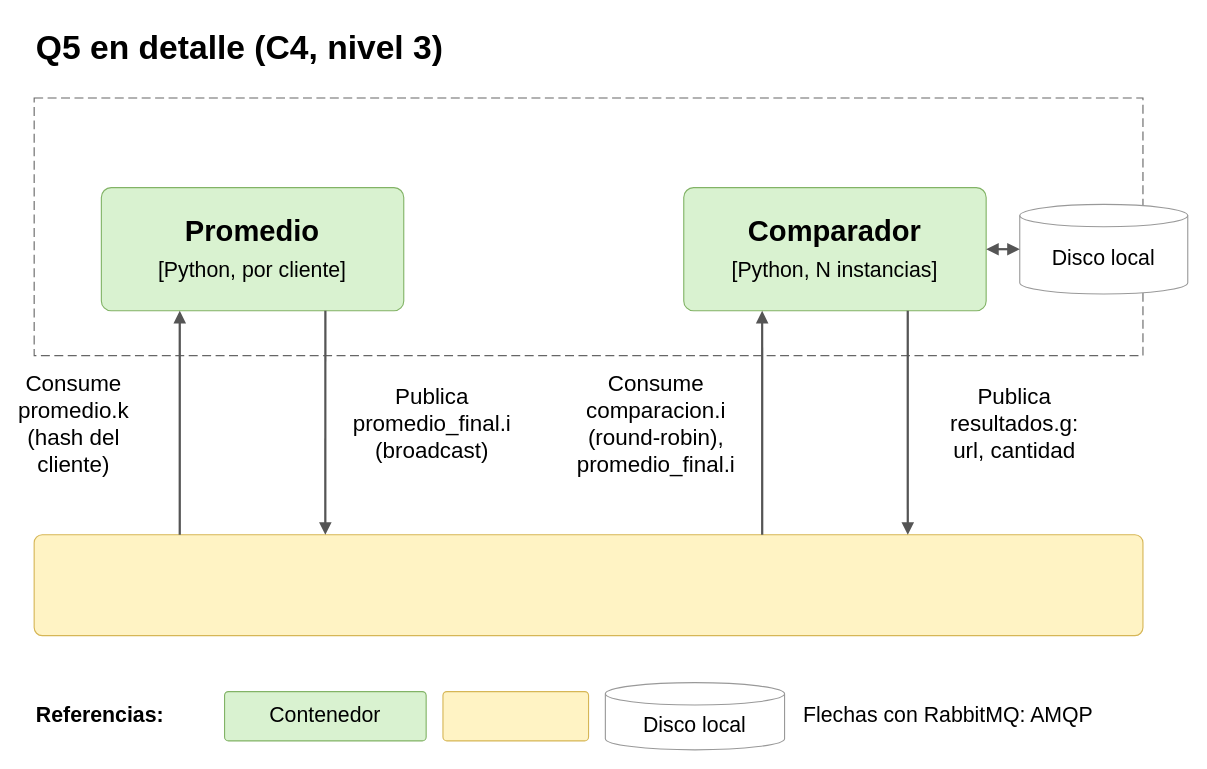
The diagram is 1207 pixels wide and 769 high, and some of its shapes have lost their labels. The shapes that lost their labels are listed below. From the top down, each one's box as (x1, y1, x2, y2) in pixels, then its label:
(33, 97, 1143, 356): Q5 [Grupo de contenedores]
(33, 534, 1143, 636): RabbitMQ [Broker de mensajes]
(442, 690, 589, 741): Broker
